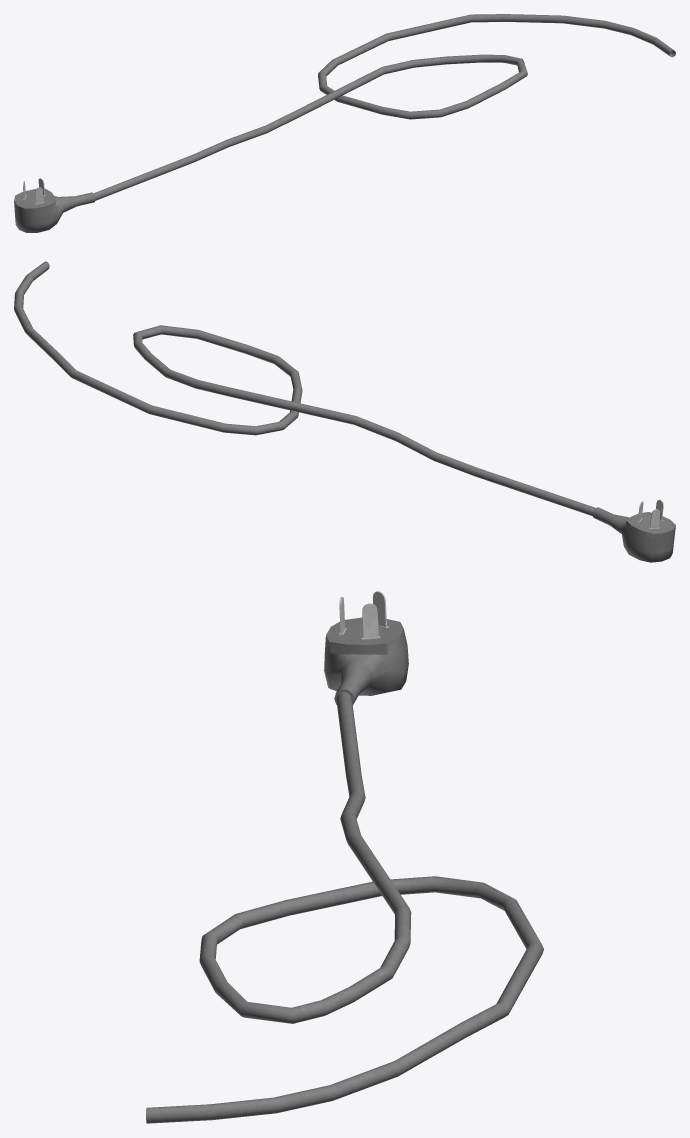
The model's file is SM_赶酸仪插头.FBX.
3 renders of one model, top to bottom at view 1: azimuth 30°, elevation 25°; view 2: azimuth 150°, elevation 25°; view 3: azimuth 270°, elevation 25°, orthographic. The views are drawn at different scales.
Parts seen in each view (by area): view 1: SM_赶酸仪插头; view 2: SM_赶酸仪插头; view 3: SM_赶酸仪插头.
Boxes of the visible parts, x1,y1,x2,y2 form: SM_赶酸仪插头: (14,14,675,232); SM_赶酸仪插头: (14,261,675,562); SM_赶酸仪插头: (146,591,543,1123).
Bounding box in the file's own units: 494 × 59.64 × 141.
